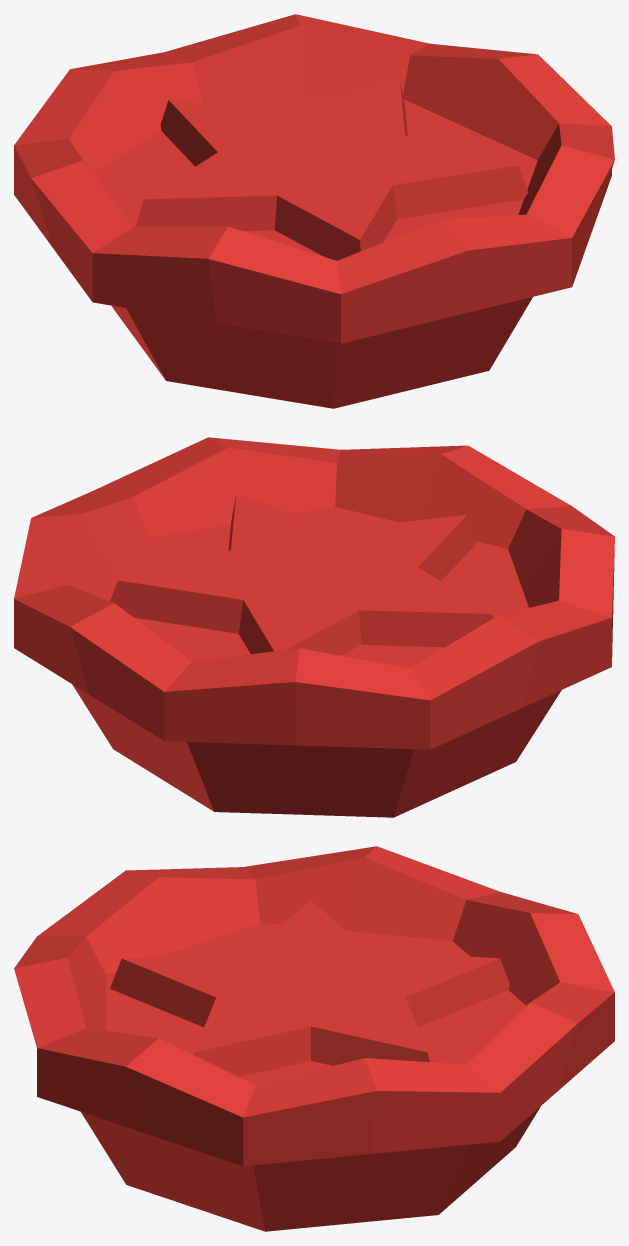
The model's file is SM_Mince_Pie.fbx.
3 renders of one model, top to bottom at view 1: azimuth 30°, elevation 25°; view 2: azimuth 150°, elevation 25°; view 3: azimuth 270°, elevation 25°, orthographic.
Parts seen in each view (by area): view 1: mince-pie; view 2: mince-pie; view 3: mince-pie.
Part boxes in pixels (x1=…): mince-pie: x1=14, y1=14, x2=614, y2=408; mince-pie: x1=14, y1=437, x2=614, y2=817; mince-pie: x1=14, y1=846, x2=614, y2=1231.
Bounding box in the file's own units: 0.1002 × 0.0354 × 0.1016.
